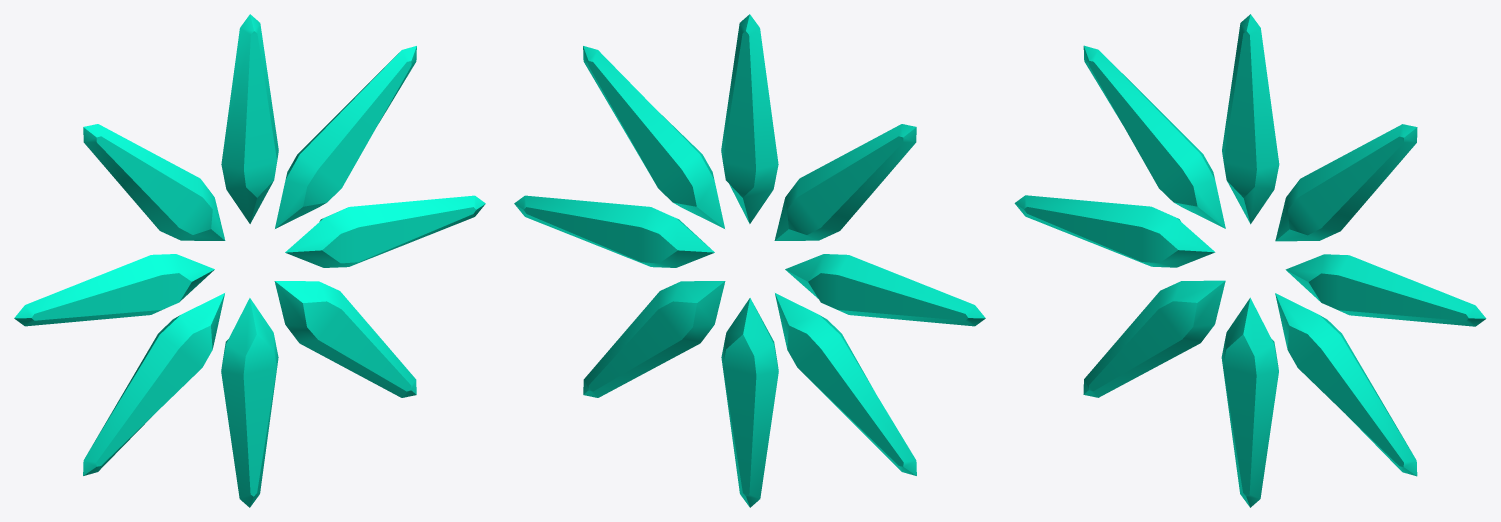
The model's file is SnowCrystal_TypeB.FBX.
The picture shows the model from 3 angles, left to right: view 1: azimuth 30°, elevation 25°; view 2: azimuth 150°, elevation 25°; view 3: azimuth 330°, elevation 25°; orthographic projection.
Visible parts, largest first — view 1: SnowCrystal_TypeB; view 2: SnowCrystal_TypeB; view 3: SnowCrystal_TypeB.
Boxes of the visible parts, bbox=[...] form: SnowCrystal_TypeB: bbox=[14, 14, 485, 507]; SnowCrystal_TypeB: bbox=[514, 14, 985, 507]; SnowCrystal_TypeB: bbox=[1014, 14, 1486, 507].
Bounding box in the file's own units: 25.43 × 25.43 × 1.94.
